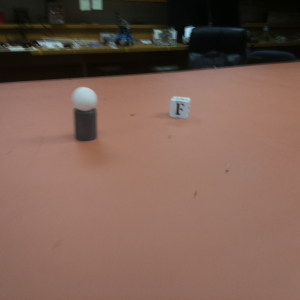blockF: (170, 96, 191, 121)
obstacle: (72, 85, 99, 144)
